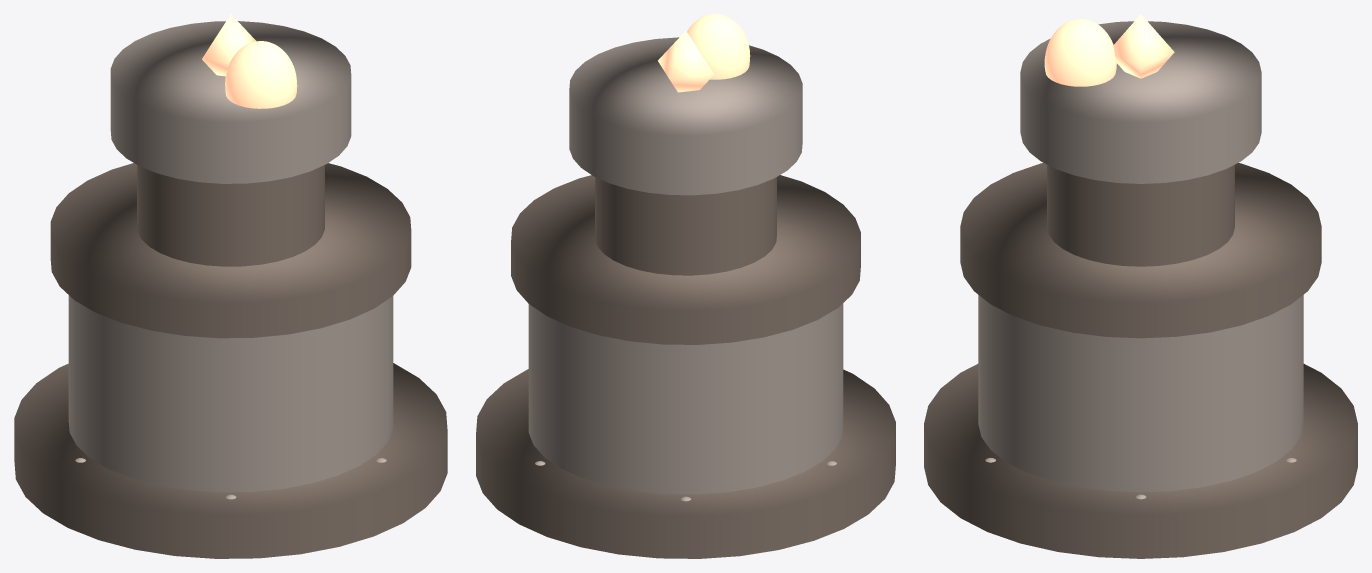
The model's file is fire_l2.glb.
3 renders of one model, left to right at view 1: azimuth 30°, elevation 25°; view 2: azimuth 150°, elevation 25°; view 3: azimuth 270°, elevation 25°, orthographic. The views are drawn at different scales.
Parts seen in each view (by area): view 1: base, footing, baseCollar, brazier, shaft, ember, spinCrystal; view 2: base, footing, baseCollar, brazier, shaft, ember, spinCrystal; view 3: base, footing, baseCollar, brazier, shaft, ember, spinCrystal.
Boxes of the visible parts, bbox=[...] form: base: bbox=[68, 295, 393, 492]; footing: bbox=[14, 363, 447, 558]; baseCollar: bbox=[50, 163, 411, 338]; brazier: bbox=[110, 21, 351, 183]; shaft: bbox=[137, 165, 324, 266]; ember: bbox=[225, 41, 297, 108]; spinCrystal: bbox=[202, 14, 256, 76]; base: bbox=[528, 303, 843, 494]; footing: bbox=[476, 369, 895, 558]; baseCollar: bbox=[511, 175, 860, 344]; brazier: bbox=[569, 37, 802, 195]; shaft: bbox=[595, 177, 776, 275]; ember: bbox=[687, 14, 750, 79]; spinCrystal: bbox=[658, 31, 713, 92]; base: bbox=[978, 295, 1303, 492]; footing: bbox=[924, 364, 1357, 558]; baseCollar: bbox=[960, 163, 1321, 338]; brazier: bbox=[1020, 21, 1261, 183]; shaft: bbox=[1047, 164, 1234, 266]; ember: bbox=[1044, 19, 1116, 86]; spinCrystal: bbox=[1113, 14, 1174, 78].
Bounding box in the file's own units: 1.8 × 2.07 × 1.8.
